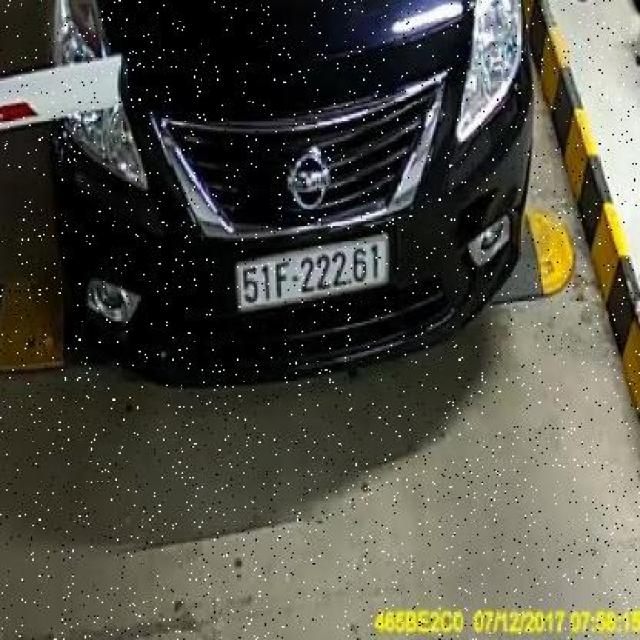number_plate: (220, 226, 397, 312)
